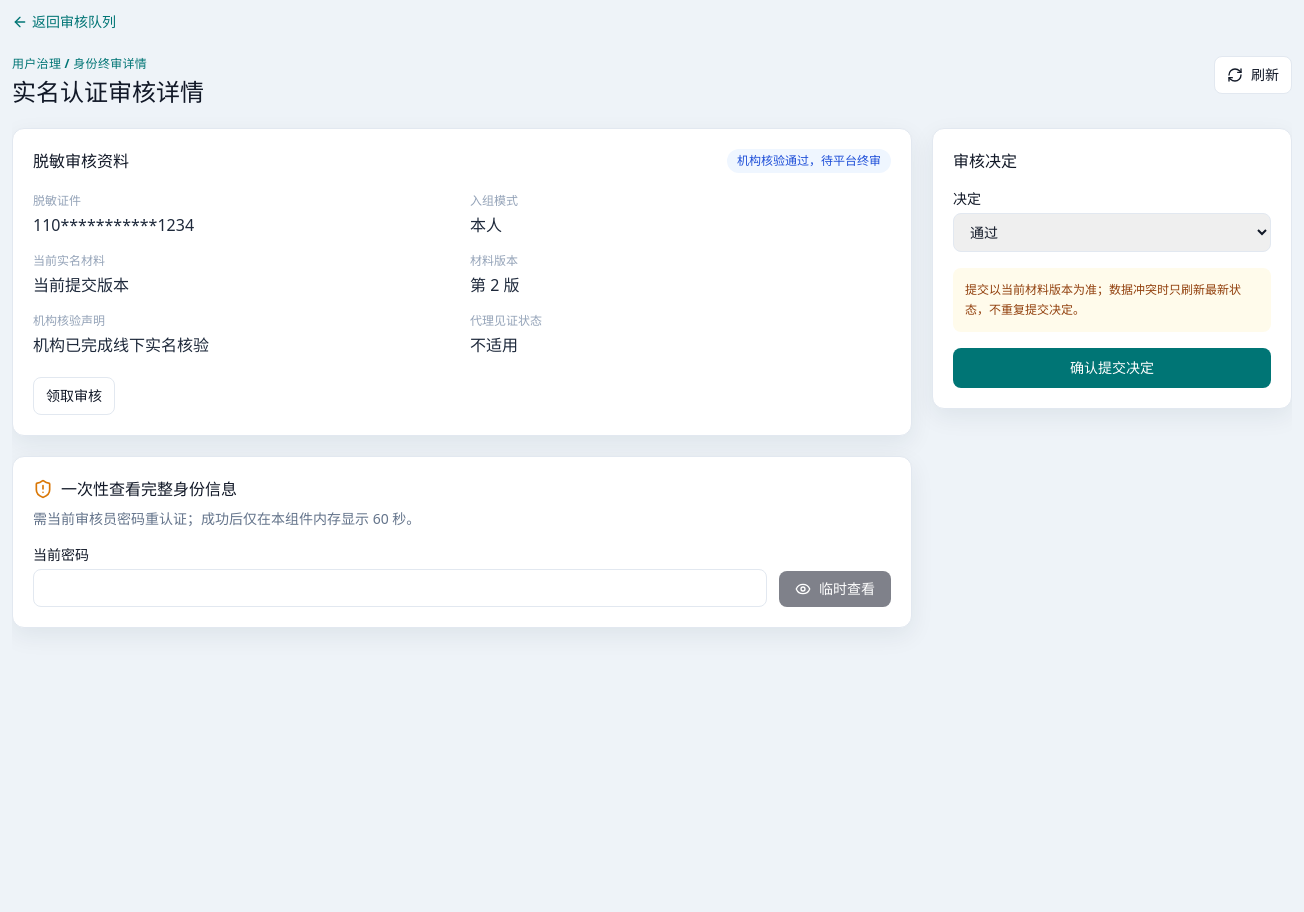
Test: Platform Member Identity Review Workbench › 操作中禁用决定按钮以阻止重复提交
Expected: the text "110***********1234" is shown, [33,214,194,236]
Click the button "确认提交决定" at (1112,368), box [953,348,1271,388]
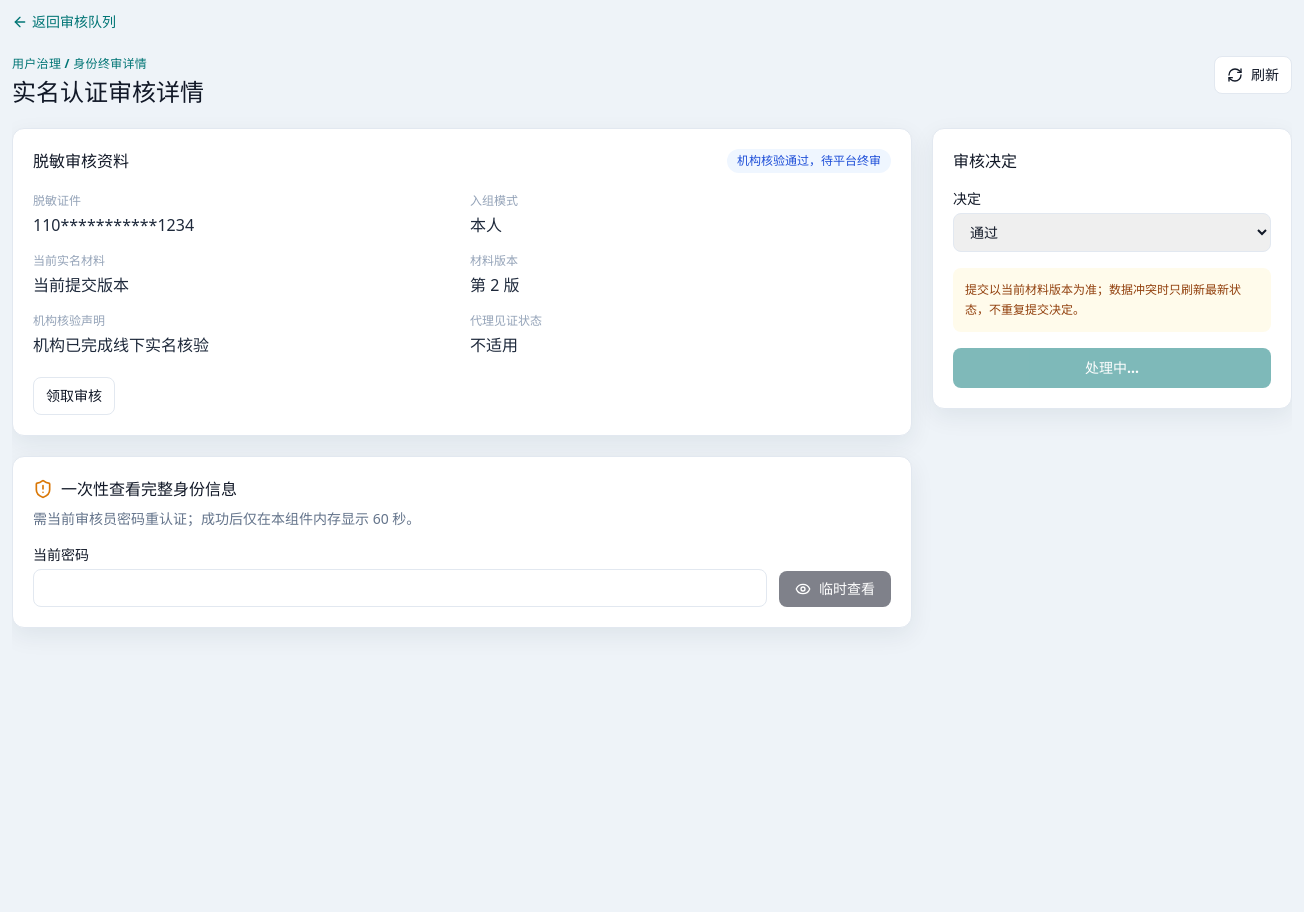
Result: the button named "确认提交决定" is disabled at [953,348,1271,388]
